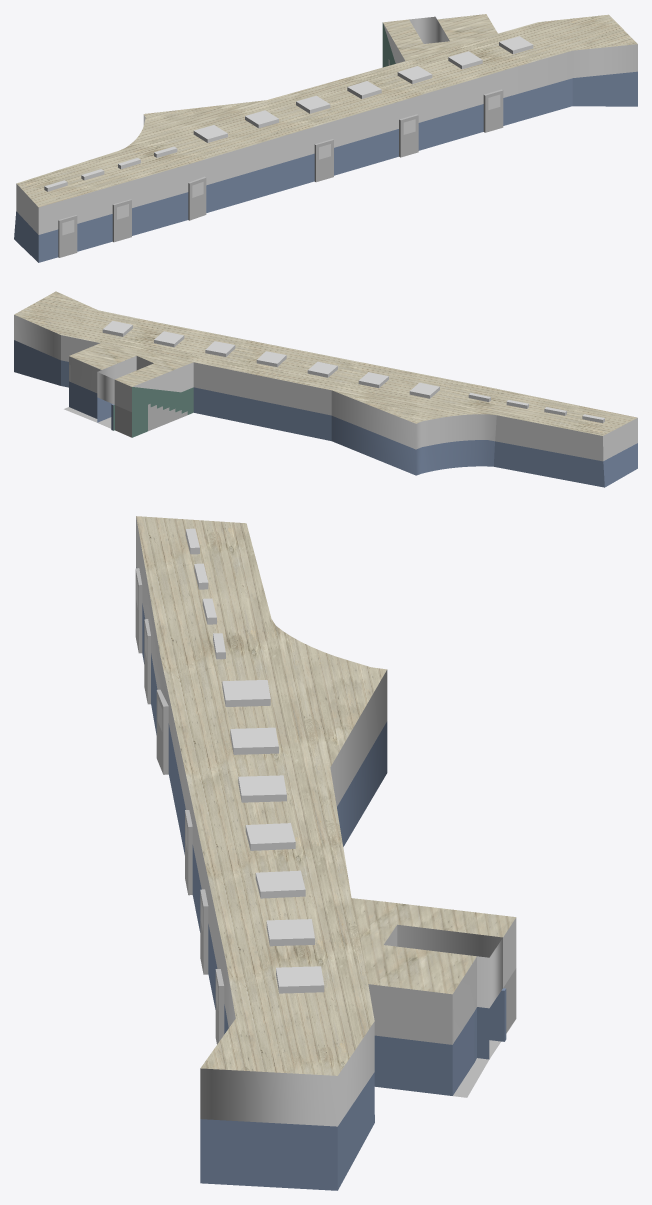
Rendered from ipmbackrooms.fbx.
3 views of the same model, one above another, from view 1: azimuth 30°, elevation 25°; view 2: azimuth 150°, elevation 25°; view 3: azimuth 270°, elevation 25° (orthographic). The views are drawn at different scales.
Visible parts, largest first — view 1: Ceiling, WallUpWhite, WallDownBlue, Door, Door1, Door2, Door4, Door5, Door3, BigLight2, BigLight, BighLight4 (+4 smaller); view 2: Ceiling, WallUpWhite, WallDownBlue, Stairs, BigLight3, BigLight1, BigLight5, BigLight, BighLight4, BigLight4, BigLight2; view 3: Ceiling, WallUpWhite, WallDownBlue, BigLight3, BigLight2, BighLight4, BigLight, BigLight4, BigLight1, BigLight5, Door3.
Part boxes in pixels (x1,y1,x2,y2): Ceiling: (16, 14, 637, 207); WallUpWhite: (16, 16, 637, 234); WallDownBlue: (14, 22, 637, 262); Door: (483, 89, 503, 132); Door1: (399, 114, 418, 157); Door2: (314, 139, 333, 182); Door4: (112, 199, 131, 242); Door5: (58, 215, 77, 257); Door3: (188, 176, 206, 220); BigLight2: (397, 66, 432, 84); BigLight: (499, 36, 533, 54); BighLight4: (296, 95, 330, 113); Ceiling: (14, 291, 637, 435); WallUpWhite: (14, 315, 637, 461); WallDownBlue: (14, 340, 637, 487); Stairs: (115, 404, 187, 437); BigLight3: (256, 351, 286, 367); BigLight1: (154, 331, 184, 347); BigLight5: (409, 382, 439, 398); BigLight: (102, 321, 132, 336); BighLight4: (307, 361, 337, 377); BigLight4: (358, 372, 388, 388); BigLight2: (205, 341, 235, 356); Ceiling: (136, 516, 516, 1075); WallUpWhite: (136, 516, 516, 1126); WallDownBlue: (136, 567, 506, 1190); BigLight3: (245, 823, 295, 850); BigLight2: (255, 870, 305, 898); BighLight4: (238, 775, 286, 802); BigLight: (276, 966, 324, 993); BigLight4: (230, 727, 278, 754); BigLight1: (266, 919, 314, 946); BigLight5: (222, 680, 270, 706); Door3: (156, 689, 168, 774).
Size of the model in its own units: 3507 by 357 by 1008.
